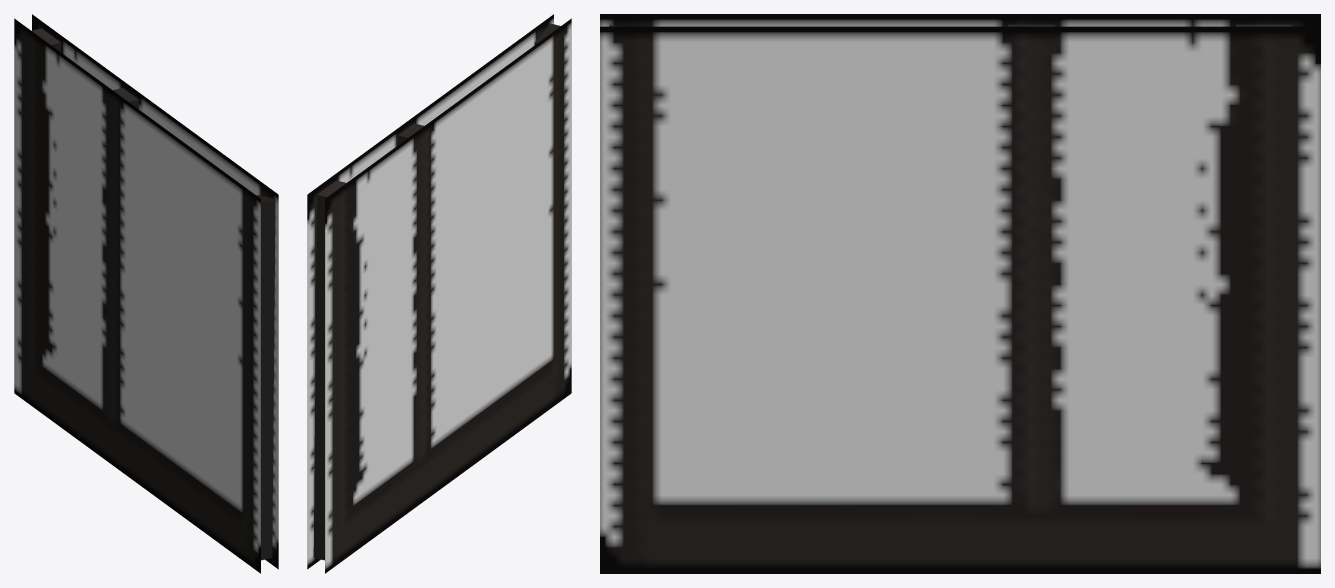
Rendered from pz_native_fixtures_windows_01_65_frame.obj.
3 renders of one model, left to right at view 1: azimuth 30°, elevation 25°; view 2: azimuth 150°, elevation 25°; view 3: azimuth 270°, elevation 25°, orthographic. The views are drawn at different scales.
Parts seen in each view (by area): view 1: pz_native_fixtures_windows_01_65_frame; view 2: pz_native_fixtures_windows_01_65_frame; view 3: pz_native_fixtures_windows_01_65_frame.
Part boxes in pixels (x1,y1,x2,y2): pz_native_fixtures_windows_01_65_frame: (14, 14, 278, 573); pz_native_fixtures_windows_01_65_frame: (307, 14, 571, 573); pz_native_fixtures_windows_01_65_frame: (600, 14, 1320, 573).
Bounding box in the file's own units: 0.04 × 0.8125 × 0.9696.
Materials: 1 (1 with a texture image).
